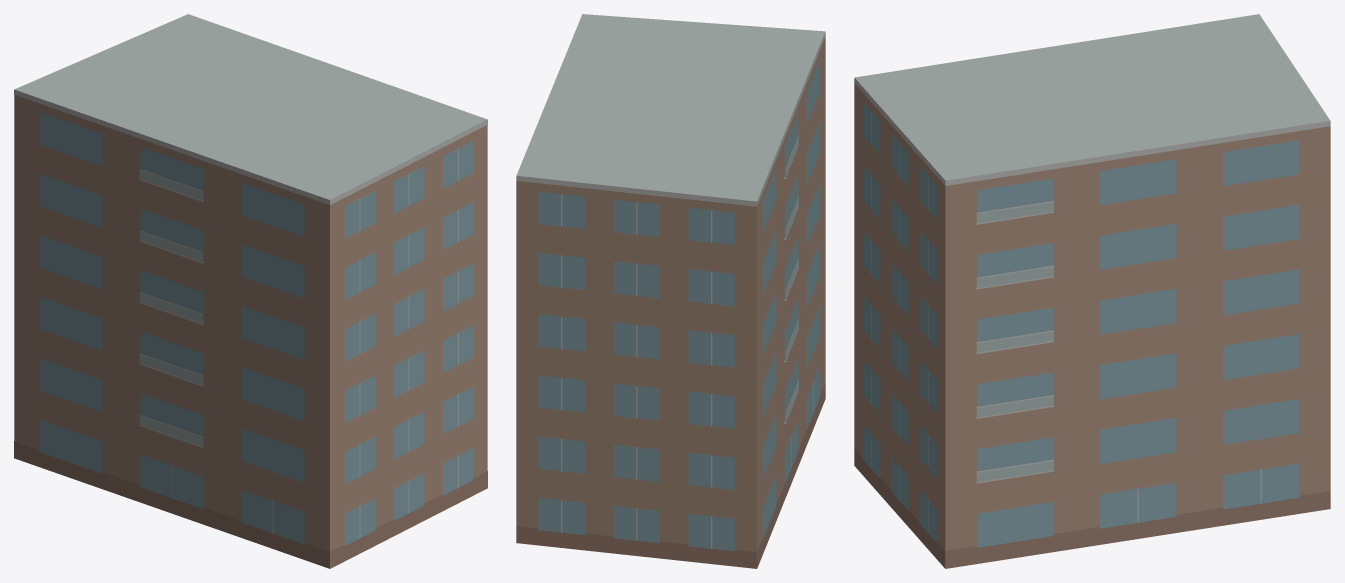
The model's file is survey-upis-32838255.glb.
3 renders of one model, left to right at view 1: azimuth 30°, elevation 25°; view 2: azimuth 150°, elevation 25°; view 3: azimuth 270°, elevation 25°, orthographic. The views are drawn at different scales.
Parts seen in each view (by area): view 1: survey-upis-32838255.tmp; view 2: survey-upis-32838255.tmp; view 3: survey-upis-32838255.tmp.
Part boxes in pixels (x1,y1,x2,y2): survey-upis-32838255.tmp: [14, 14, 487, 568]; survey-upis-32838255.tmp: [516, 14, 825, 568]; survey-upis-32838255.tmp: [854, 14, 1330, 568].
Size of the model in its own units: 16.13 by 17.5 by 19.46.
